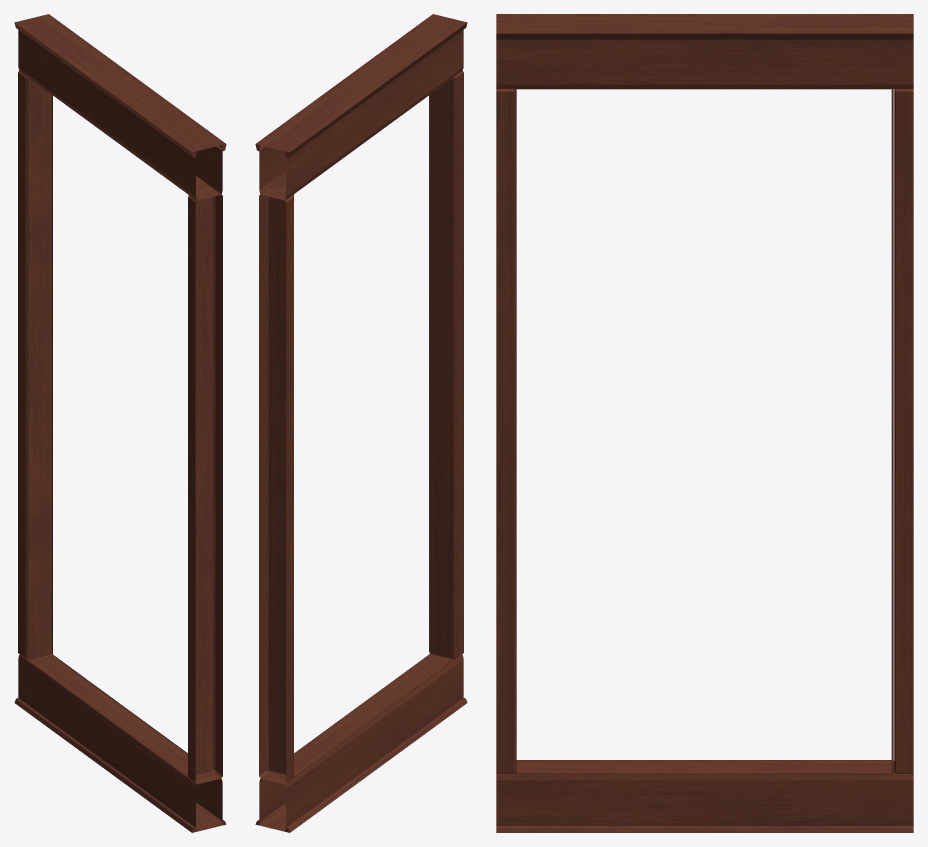
Rendered from SM_VarnishWall01A.fbx.
3 renders of one model, left to right at view 1: azimuth 30°, elevation 25°; view 2: azimuth 150°, elevation 25°; view 3: azimuth 270°, elevation 25°, orthographic. The views are drawn at different scales.
Visible parts, largest first — view 1: SM_VarnishWall01A; view 2: SM_VarnishWall01A; view 3: SM_VarnishWall01A.
Boxes of the visible parts, x1,y1,x2,y2 form: SM_VarnishWall01A: [14, 14, 226, 832]; SM_VarnishWall01A: [255, 14, 467, 832]; SM_VarnishWall01A: [496, 14, 913, 832].
Bounding box in the file's own units: 12.38 × 110 × 233.
Materials: 1 (1 with a texture image).
